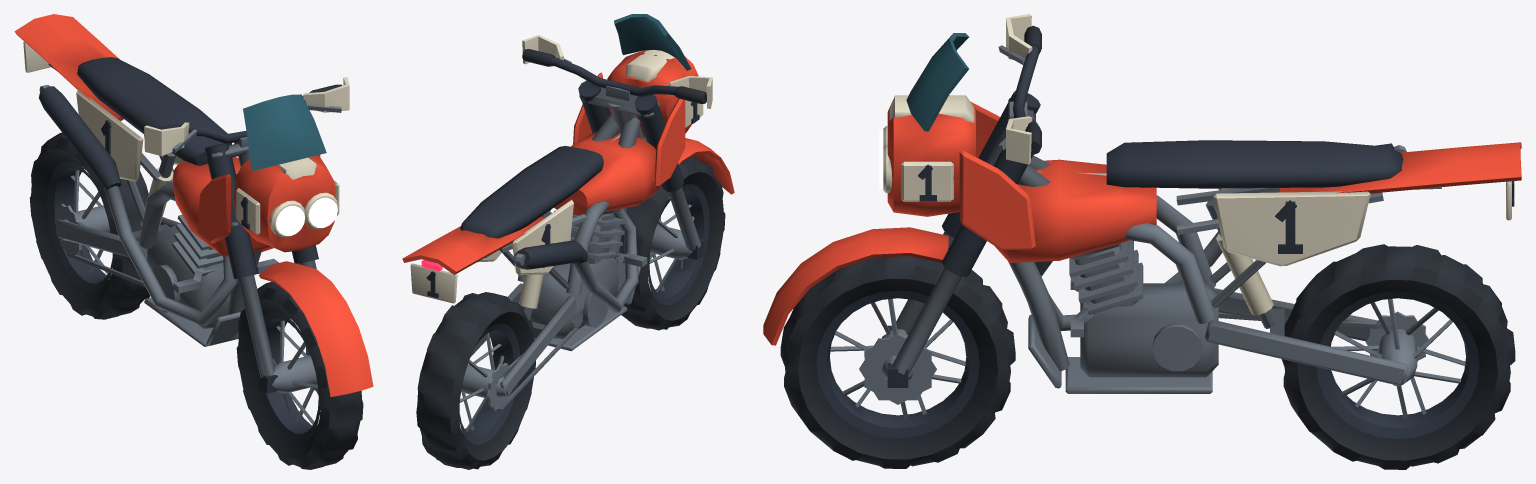
Rendered from moto-rally.glb.
3 renders of one model, left to right at view 1: azimuth 30°, elevation 25°; view 2: azimuth 150°, elevation 25°; view 3: azimuth 270°, elevation 25°, orthographic. The views are drawn at different scales.
Parts seen in each view (by area): view 1: Rally 450 Swift coral, Rally 450 Gunmetal, Rally 450 Graphite, Front wheel Trail rubber, Rear wheel Trail rubber, Rally 450 Rally ivory, Rally 450 Smoked teal, Rear wheel Graphite, Front wheel Graphite, Front wheel Gunmetal, Rear wheel Gunmetal, Rally 450 Headlamp glow; view 2: Rally 450 Gunmetal, Rally 450 Swift coral, Rally 450 Graphite, Rear wheel Trail rubber, Front wheel Trail rubber, Rally 450 Rally ivory, Front wheel Graphite, Rear wheel Graphite, Rear wheel Gunmetal, Rally 450 Smoked teal, Front wheel Gunmetal, Rally 450 Trail rubber; view 3: Rally 450 Gunmetal, Rally 450 Swift coral, Rear wheel Trail rubber, Front wheel Trail rubber, Rally 450 Graphite, Rally 450 Rally ivory, Front wheel Graphite, Rear wheel Graphite, Front wheel Gunmetal, Rear wheel Gunmetal, Rally 450 Smoked teal.
Boxes of the visible parts, <box> form: Rally 450 Swift coral: <box>14,14,373,396</box>; Rally 450 Gunmetal: <box>39,64,341,377</box>; Rally 450 Graphite: <box>39,57,318,393</box>; Front wheel Trail rubber: <box>236,281,363,469</box>; Rear wheel Trail rubber: <box>29,132,149,319</box>; Rally 450 Rally ivory: <box>23,41,349,237</box>; Rally 450 Smoked teal: <box>243,94,326,171</box>; Rear wheel Graphite: <box>47,161,112,292</box>; Front wheel Graphite: <box>253,311,320,442</box>; Front wheel Gunmetal: <box>272,320,318,424</box>; Rear wheel Gunmetal: <box>54,170,111,275</box>; Rally 450 Headlamp glow: <box>276,197,337,235</box>; Rally 450 Gunmetal: <box>470,58,700,410</box>; Rally 450 Swift coral: <box>402,50,734,274</box>; Rally 450 Graphite: <box>426,57,704,298</box>; Rear wheel Trail rubber: <box>416,292,535,469</box>; Front wheel Trail rubber: <box>619,156,725,330</box>; Rally 450 Rally ivory: <box>410,35,712,308</box>; Front wheel Graphite: <box>648,184,709,305</box>; Rear wheel Graphite: <box>459,323,519,444</box>; Rear wheel Gunmetal: <box>460,329,511,432</box>; Rally 450 Smoked teal: <box>614,14,691,70</box>; Front wheel Gunmetal: <box>649,198,694,292</box>; Rally 450 Trail rubber: <box>522,49,706,103</box>; Rally 450 Gunmetal: <box>892,45,1441,393</box>; Rally 450 Swift coral: <box>763,95,1521,345</box>; Rear wheel Trail rubber: <box>1281,244,1515,469</box>; Front wheel Trail rubber: <box>780,256,1015,468</box>; Rally 450 Graphite: <box>887,45,1514,387</box>; Rally 450 Rally ivory: <box>883,14,1511,315</box>; Front wheel Graphite: <box>816,290,979,438</box>; Rear wheel Graphite: <box>1316,291,1479,439</box>; Front wheel Gunmetal: <box>830,298,965,419</box>; Rear wheel Gunmetal: <box>1332,299,1465,419</box>; Rally 450 Smoked teal: <box>906,33,968,131</box>.
Bounding box in the file's own units: 0.9721 × 1.59 × 2.58.
